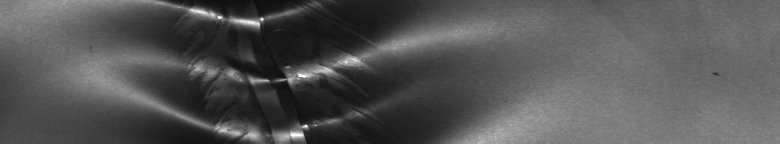ke: (129, 4, 416, 136)
